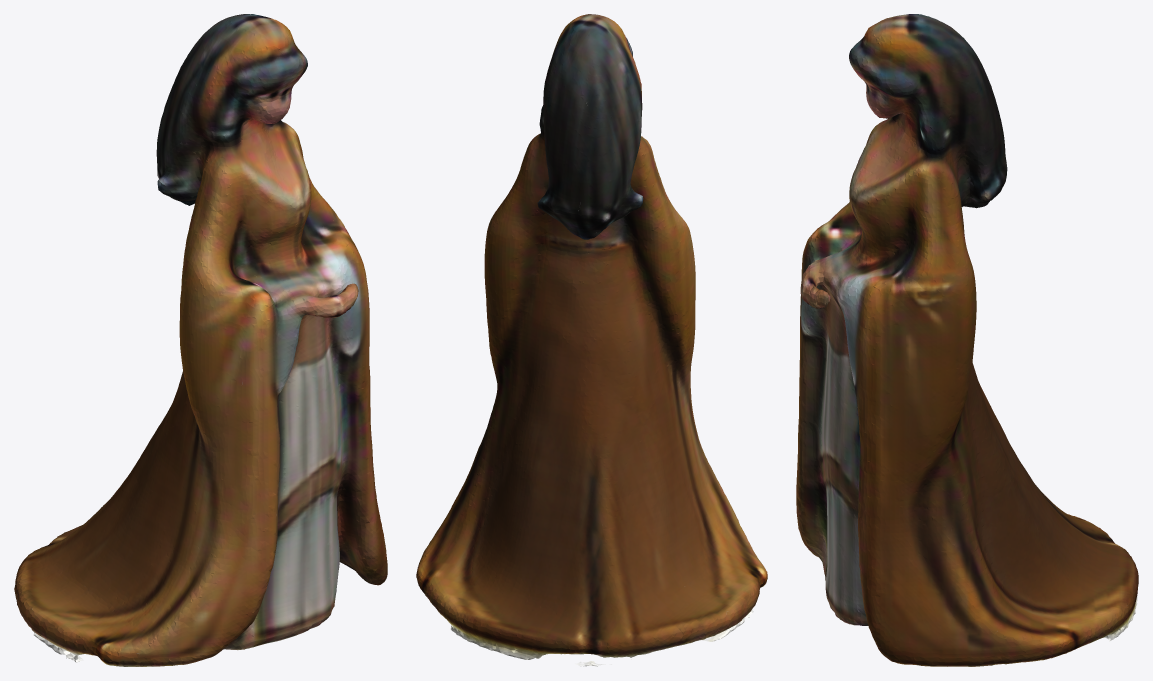
Rendered from WifeOfAlibaba.obj.
3 renders of one model, left to right at view 1: azimuth 30°, elevation 25°; view 2: azimuth 150°, elevation 25°; view 3: azimuth 270°, elevation 25°, orthographic. The views are drawn at different scales.
Bounding box in the file's own units: 0.5528 × 0.9835 × 0.5084.
Materials: 1 (1 with a texture image).
